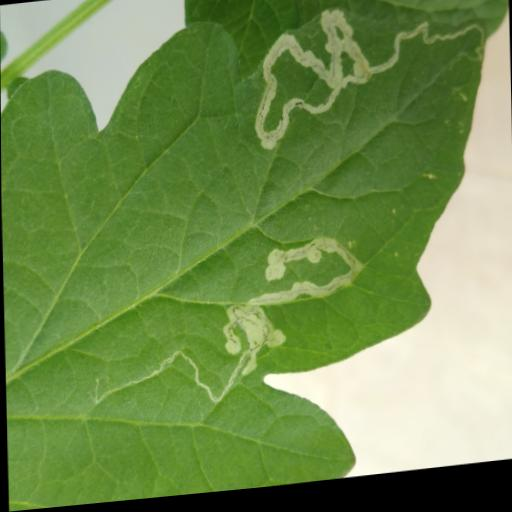Leaf_Miner: (0, 0, 501, 512)
